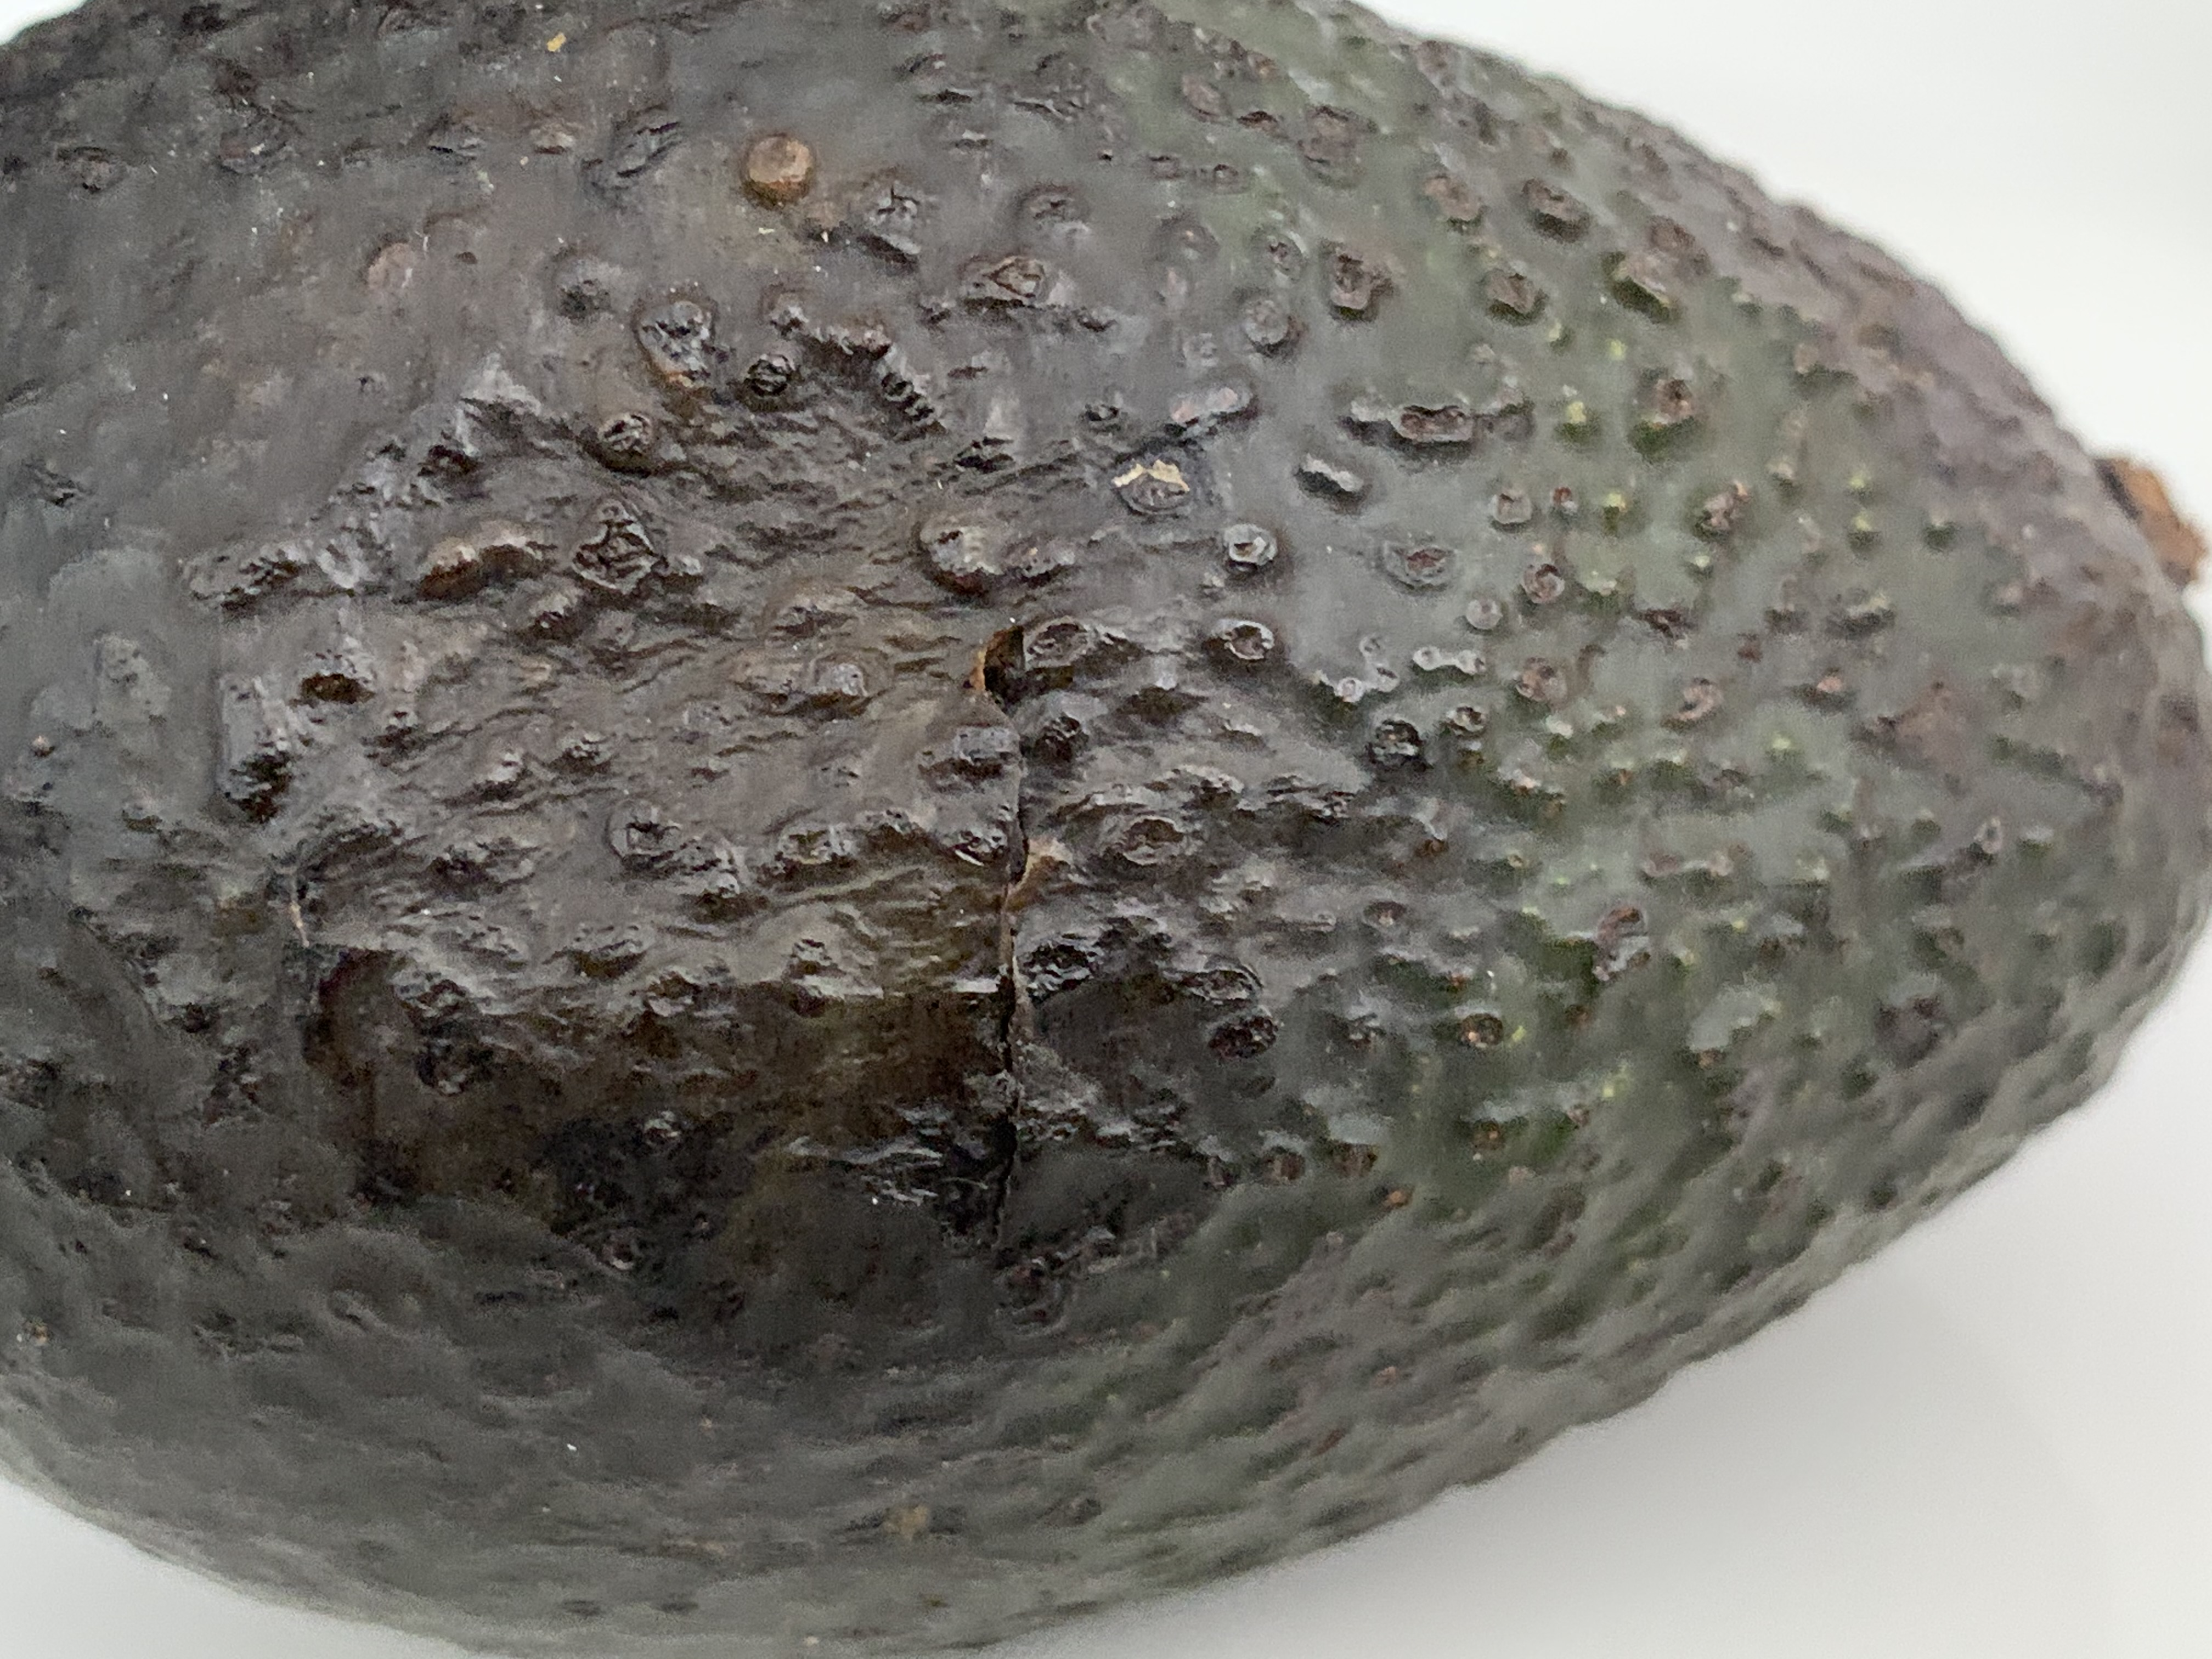avocado: (5, 14, 2212, 1652)
